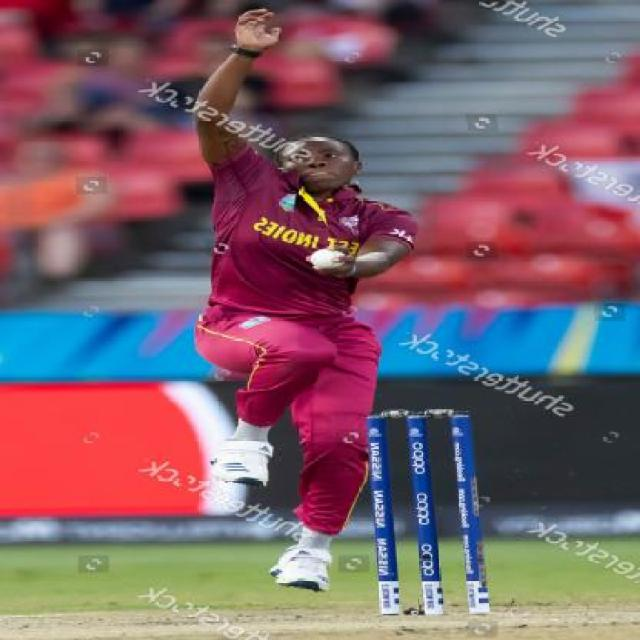ball: (281, 234, 358, 290)
